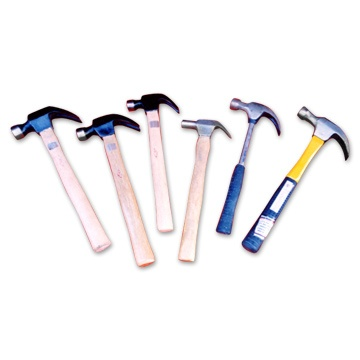hammer: (243, 103, 355, 253), (9, 103, 113, 254), (79, 113, 156, 268), (125, 91, 185, 236), (221, 95, 283, 234), (174, 120, 232, 265)
